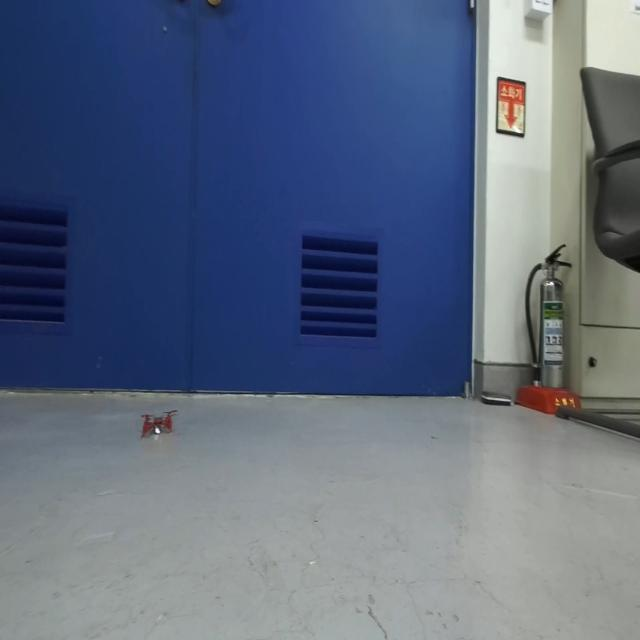crazyflie: (141, 402, 181, 446)
